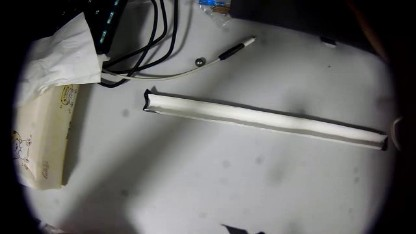gangzhu: (194, 56, 205, 66)
